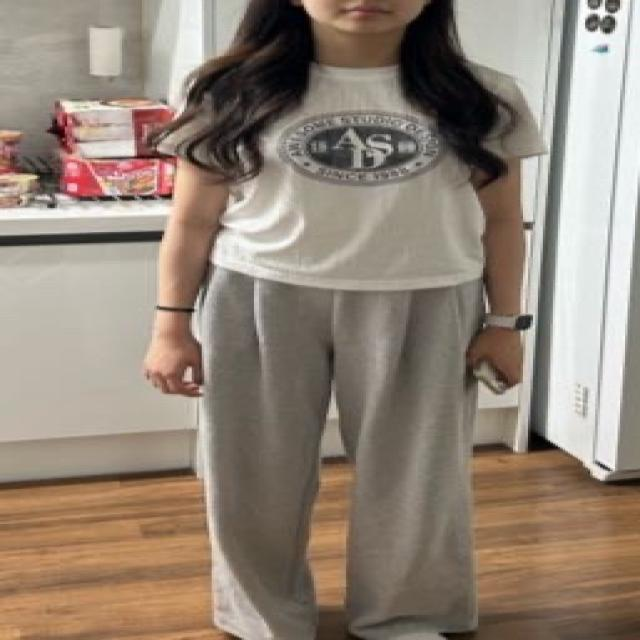shortsleeve: (164, 55, 554, 288)
trainingpants: (190, 262, 483, 637)
